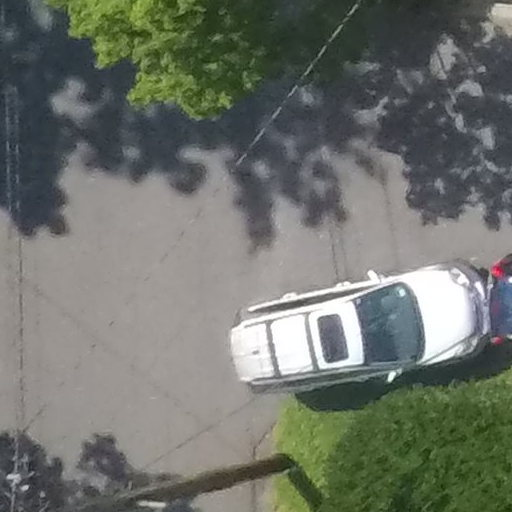car: (203, 204, 496, 408)
